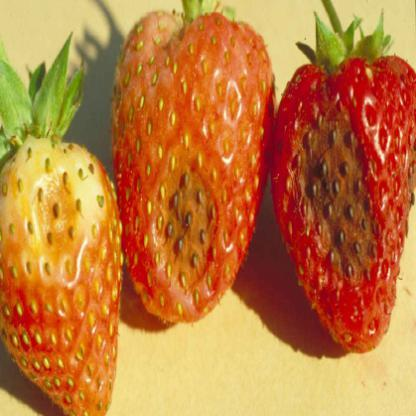Strawberry_Anthracnose_Fruit_Rot: (286, 101, 386, 290), (0, 134, 109, 293), (138, 135, 225, 295)
